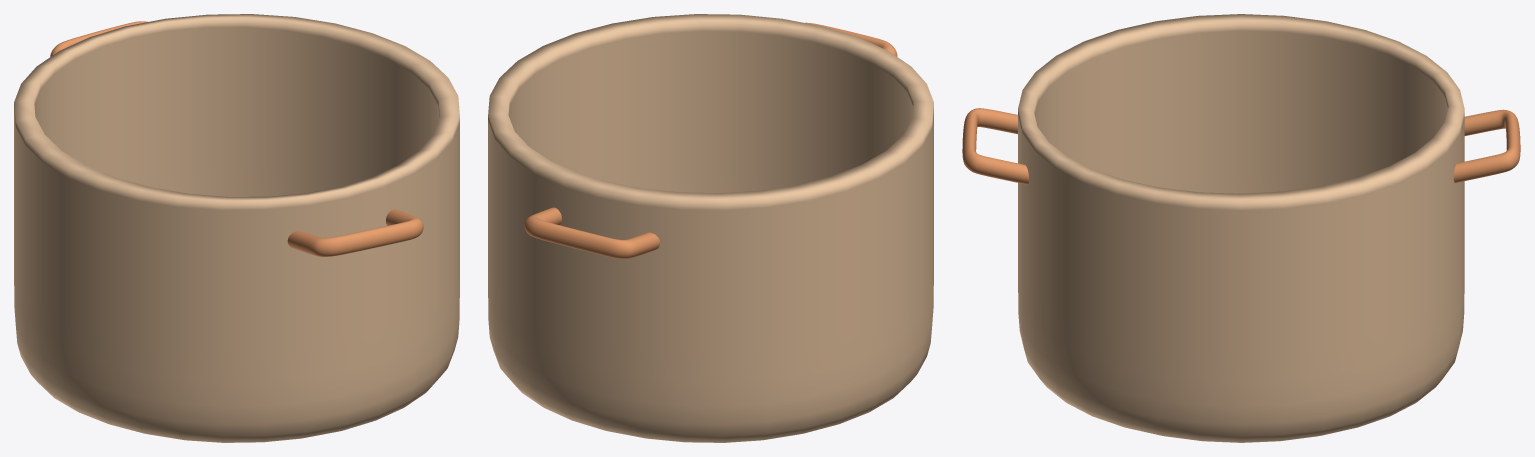
Rendered from SM_PotBody.fbx.
The picture shows the model from 3 angles, left to right: view 1: azimuth 30°, elevation 25°; view 2: azimuth 150°, elevation 25°; view 3: azimuth 270°, elevation 25°; orthographic projection.
Parts seen in each view (by area): view 1: SM_PotBody; view 2: SM_PotBody; view 3: SM_PotBody.
Part boxes in pixels (box(x1,y1,x2,y2)): SM_PotBody: box(14, 14, 459, 442); SM_PotBody: box(488, 14, 933, 442); SM_PotBody: box(962, 14, 1520, 442).
Size of the model in its own units: 79.23 by 50.39 by 99.03.
